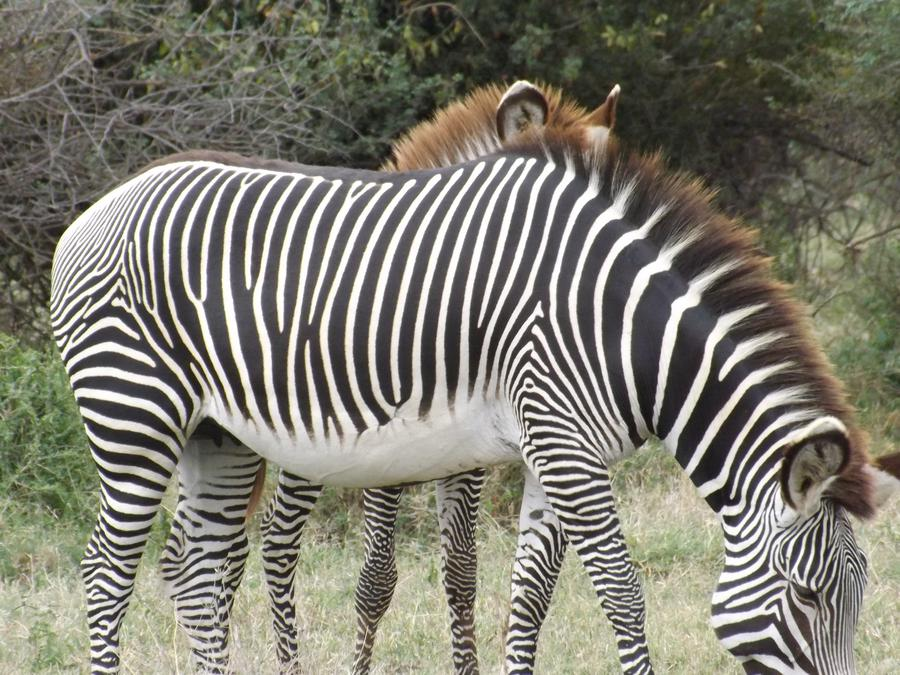zebra_grevys: (50, 114, 625, 471)
